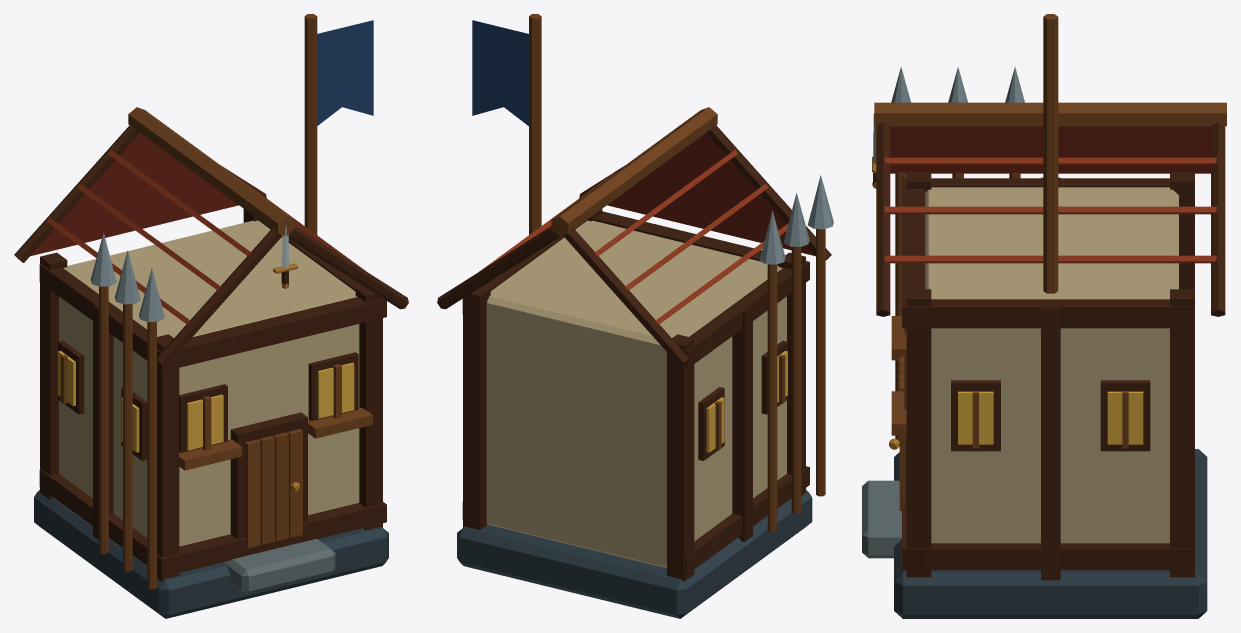
File: Barracks.fbx
3 views of the same model, side by side, from view 1: azimuth 30°, elevation 25°; view 2: azimuth 150°, elevation 25°; view 3: azimuth 270°, elevation 25° (orthographic). The views are drawn at different scales.
Parts seen in each view (by area): view 1: Barracks_Mesh, Arms rack_Mesh, Banner_Mesh, Crossed swords_Mesh; view 2: Barracks_Mesh, Arms rack_Mesh, Banner_Mesh; view 3: Barracks_Mesh, Banner_Mesh, Arms rack_Mesh.
Part boxes in pixels (bbox=[...]): Barracks_Mesh: bbox=[14, 107, 408, 618]; Arms rack_Mesh: bbox=[90, 232, 164, 589]; Banner_Mesh: bbox=[304, 14, 373, 250]; Crossed swords_Mesh: bbox=[273, 224, 297, 288]; Barracks_Mesh: bbox=[437, 107, 831, 618]; Arms rack_Mesh: bbox=[759, 175, 833, 531]; Banner_Mesh: bbox=[472, 14, 541, 250]; Barracks_Mesh: bbox=[862, 102, 1226, 618]; Banner_Mesh: bbox=[1043, 14, 1058, 293]; Arms rack_Mesh: bbox=[891, 66, 1024, 441].
Bounding box in the file's own units: 1.13 × 1.85 × 1.03.
